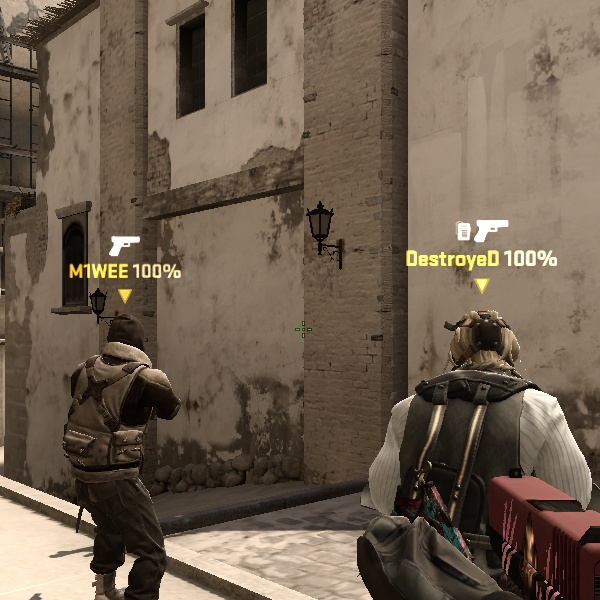t_body: (349, 302, 582, 583), (40, 314, 200, 594)
t_head: (435, 304, 531, 399), (87, 313, 154, 384)
